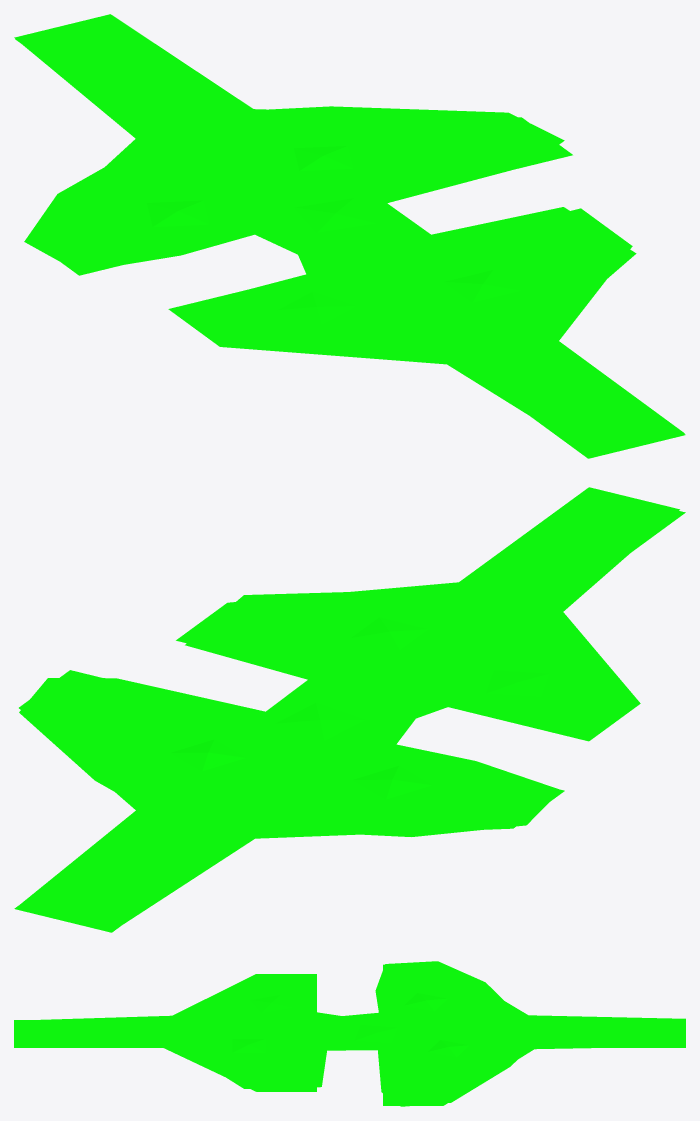
File: s07b_ic3-floor.glb
3 views of the same model, one above another, from view 1: azimuth 30°, elevation 25°; view 2: azimuth 150°, elevation 25°; view 3: azimuth 270°, elevation 25° (orthographic). The views are drawn at different scales.
Parts seen in each view (by area): view 1: collision_floor-colonly; view 2: collision_floor-colonly; view 3: collision_floor-colonly.
Boxes of the visible parts, x1,y1,x2,y2 form: collision_floor-colonly: (14,14,685,458); collision_floor-colonly: (14,487,685,932); collision_floor-colonly: (14,961,685,1106).
Size of the model in its own units: 31.29 by 0.3457 by 61.
